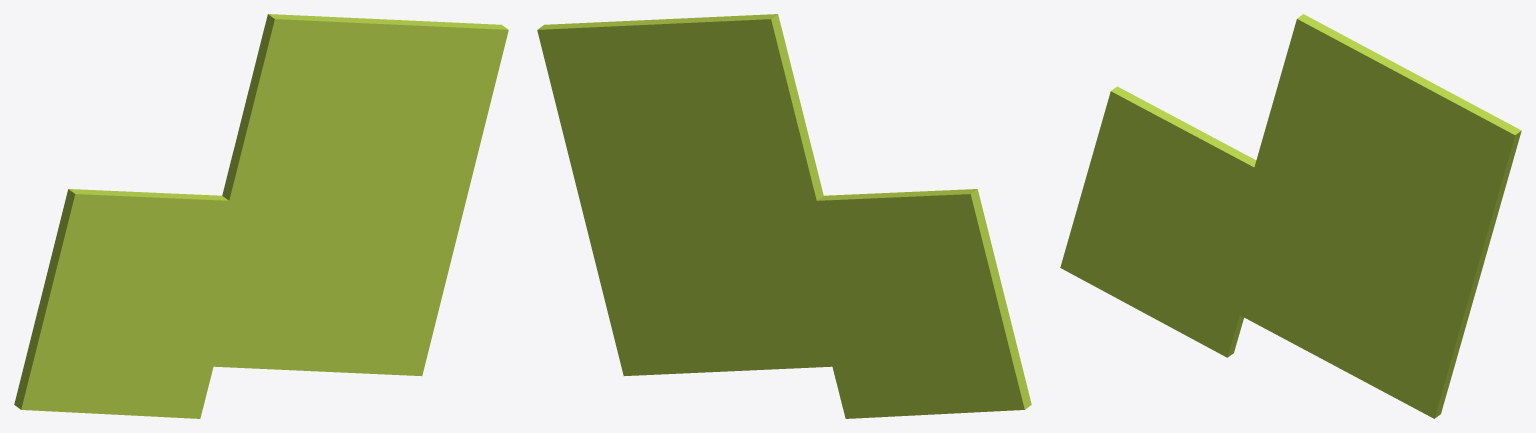
The picture shows the model from 3 angles, left to right: view 1: azimuth 30°, elevation 25°; view 2: azimuth 150°, elevation 25°; view 3: azimuth 330°, elevation 25°; orthographic projection. The views are drawn at different scales.
Visible parts, largest first — view 1: osm-way27917482-F1; view 2: osm-way27917482-F1; view 3: osm-way27917482-F1.
Part boxes in pixels (left/top/right/bottom): osm-way27917482-F1: left=14, top=14, right=508, bottom=418; osm-way27917482-F1: left=537, top=14, right=1031, bottom=418; osm-way27917482-F1: left=1060, top=14, right=1521, bottom=418.
Size of the model in its own units: 6.02 by 4.64 by 0.15.
